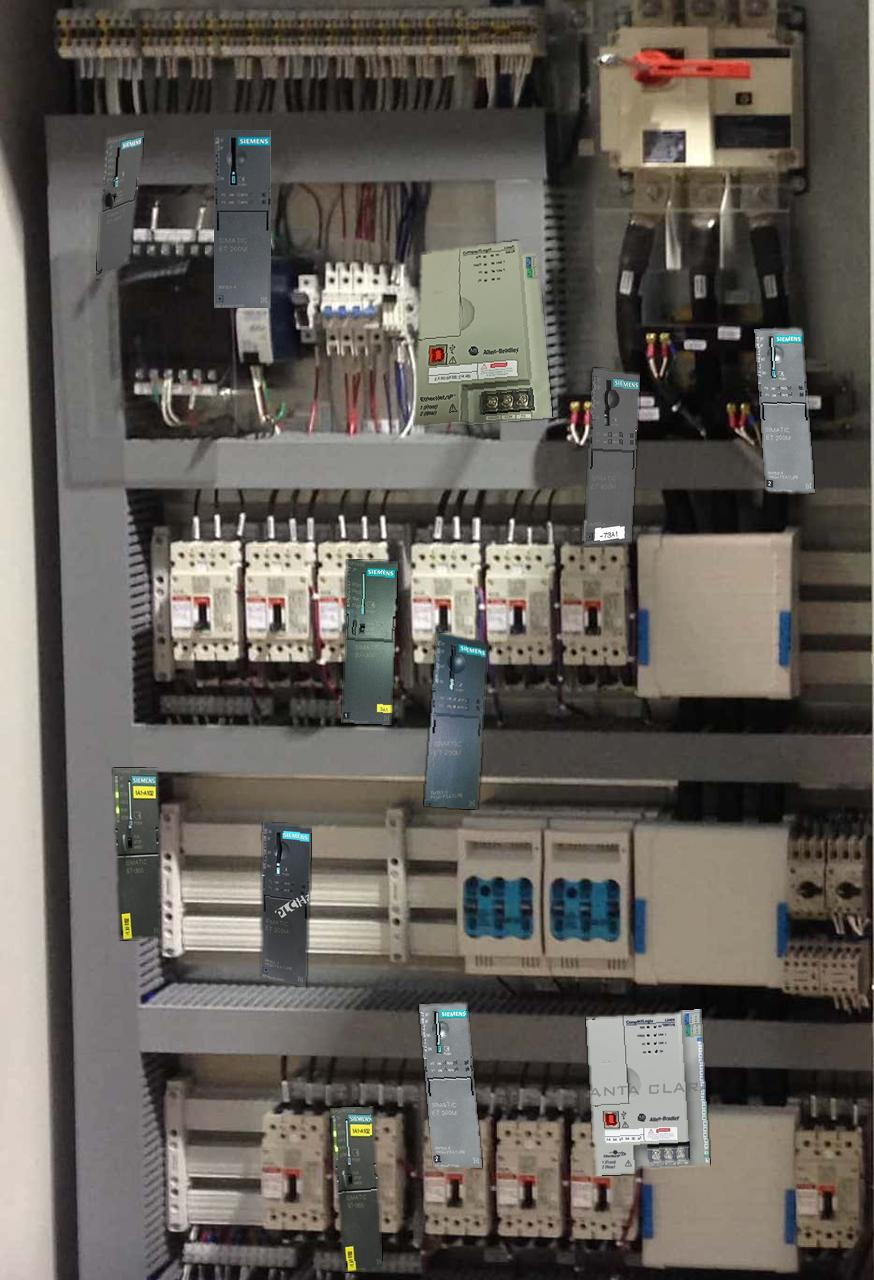AllenBradley: (414, 241, 552, 425), (586, 1009, 709, 1175)
Siemens: (342, 559, 397, 724), (330, 1107, 382, 1271), (113, 768, 159, 939), (96, 130, 143, 278)
